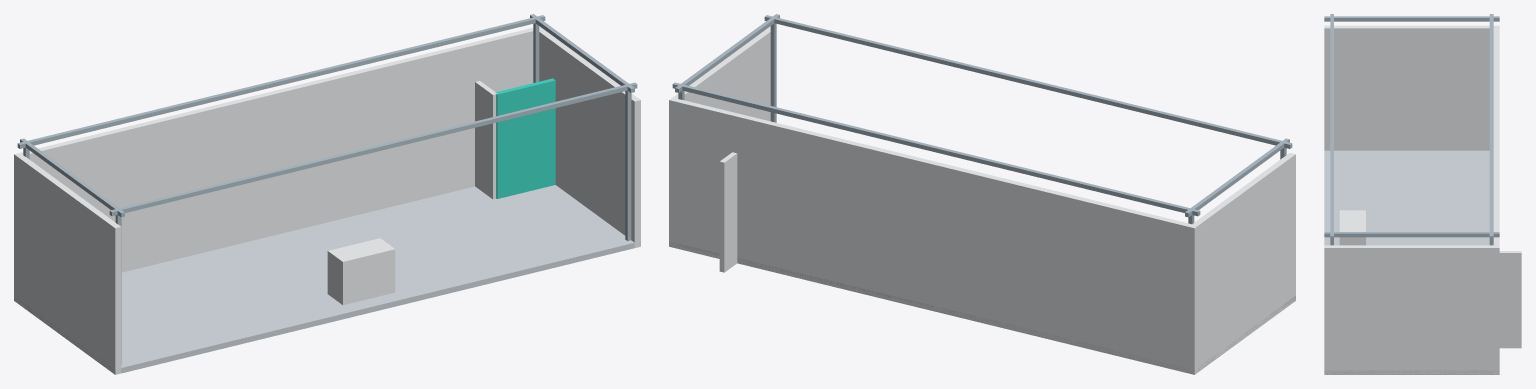
3 views of the same model, side by side, from view 1: azimuth 30°, elevation 25°; view 2: azimuth 150°, elevation 25°; view 3: azimuth 270°, elevation 25° (orthographic). The views are drawn at different scales.
Parts seen in each view (by area): view 1: Exhibition Booth Concept; view 2: Exhibition Booth Concept; view 3: Exhibition Booth Concept.
Part boxes in pixels (x1,y1,x2,y2): Exhibition Booth Concept: (14, 14, 640, 374); Exhibition Booth Concept: (669, 14, 1295, 374); Exhibition Booth Concept: (1324, 14, 1521, 374).
Bounding box in the file's own units: 12 × 3.49 × 4.51.
